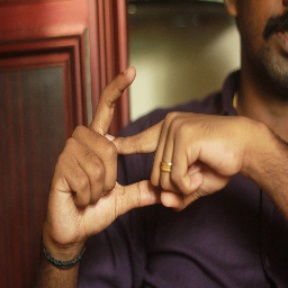E: (81, 56, 177, 203)
